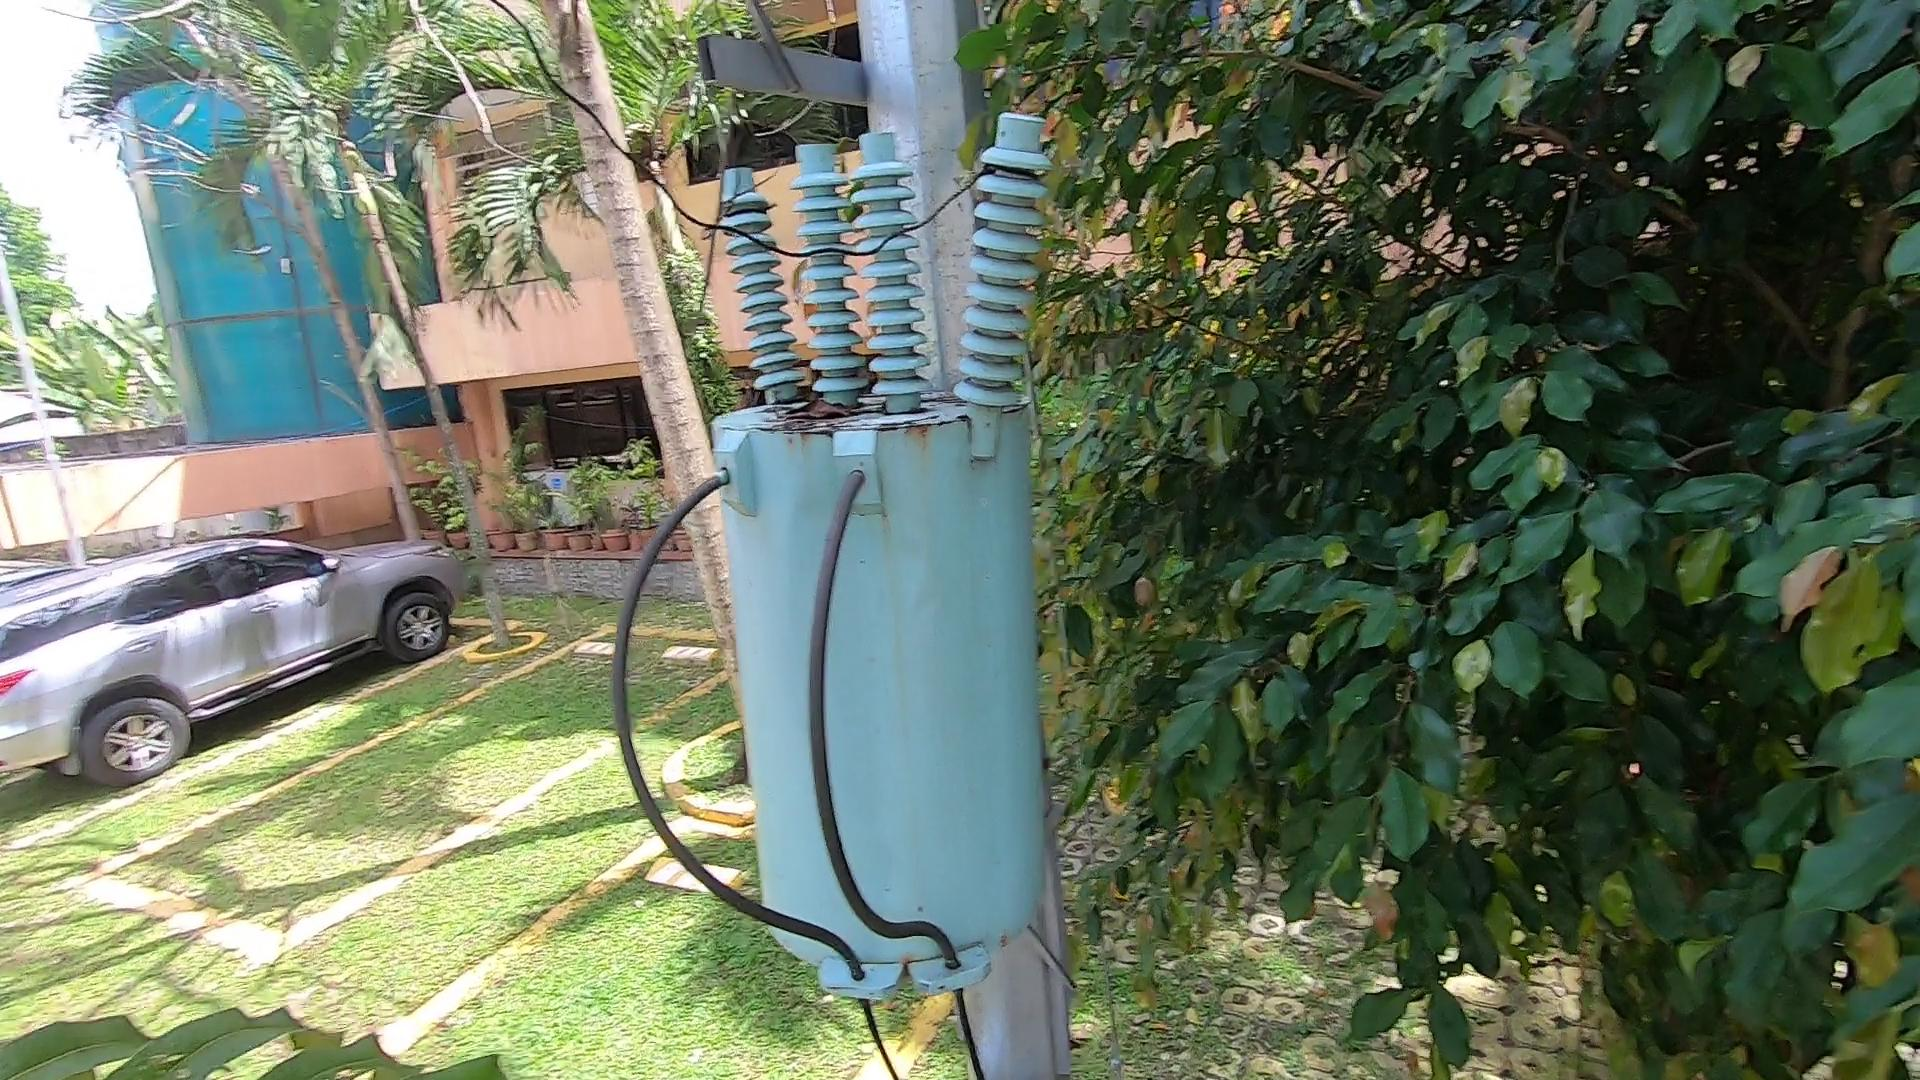leaf: (771, 386, 860, 430)
tree branch: (665, 3, 770, 313)
